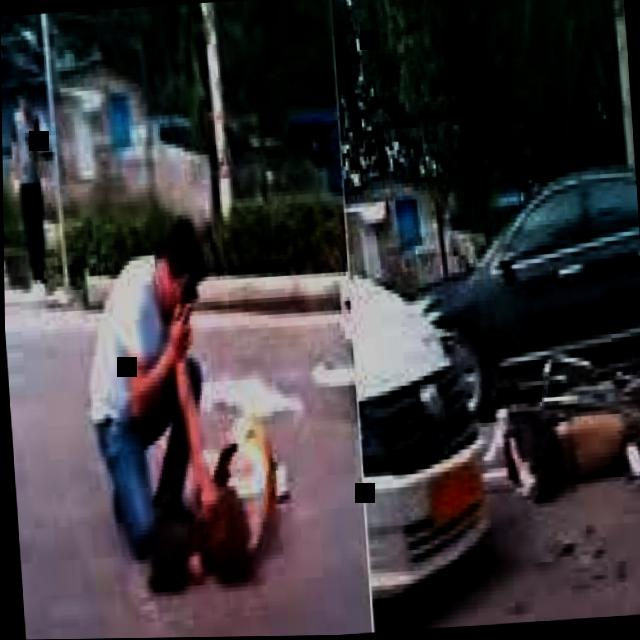Fall-Detected: (128, 365, 302, 590)
